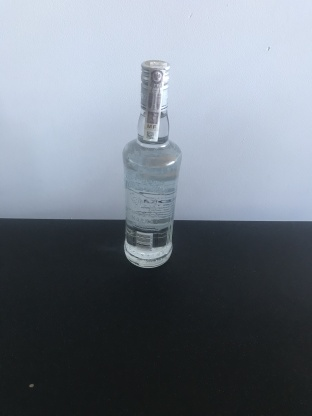nakretka: (137, 55, 173, 111)
